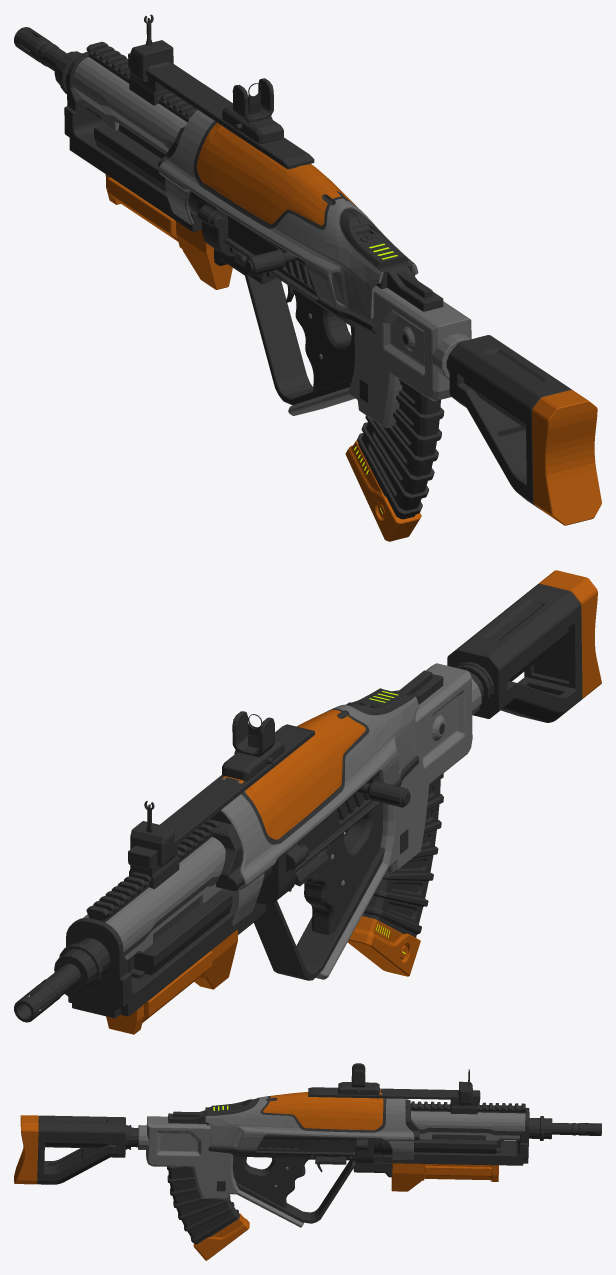
Rendered from battlerifle.glb.
3 views of the same model, one above another, from view 1: azimuth 30°, elevation 25°; view 2: azimuth 150°, elevation 25°; view 3: azimuth 270°, elevation 25° (orthographic). The views are drawn at different scales.
Visible parts, largest first — view 1: battlerifle; view 2: battlerifle; view 3: battlerifle.
Part boxes in pixels (<box>): battlerifle: <box>14,14,601,541</box>; battlerifle: <box>14,570,601,1034</box>; battlerifle: <box>14,1063,601,1260</box>.
Bounding box in the file's own units: 0.1076 × 0.2902 × 0.8108.
